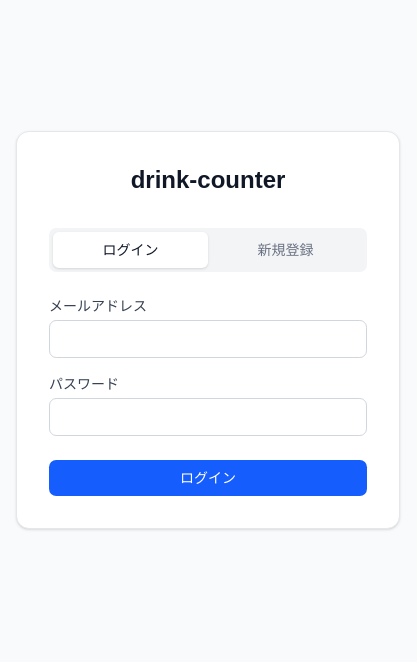
Test case: Auth › 新規登録成功時に確認メール送信メッセージを表示する
The image size is (417, 662).
Click the button "新規登録" at x=286, y=250, box [208,232,363,268]
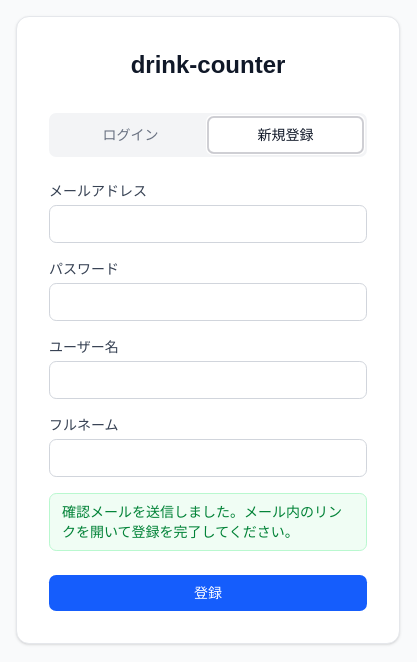
Now the text "確認メールを送信しました。メール内のリンクを開いて登録を完了してください。" is shown, box [49,493,367,551]
